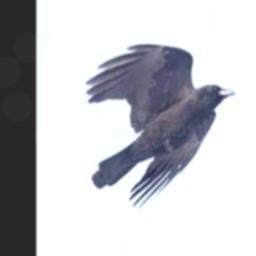Crow: (86, 42, 236, 207)
